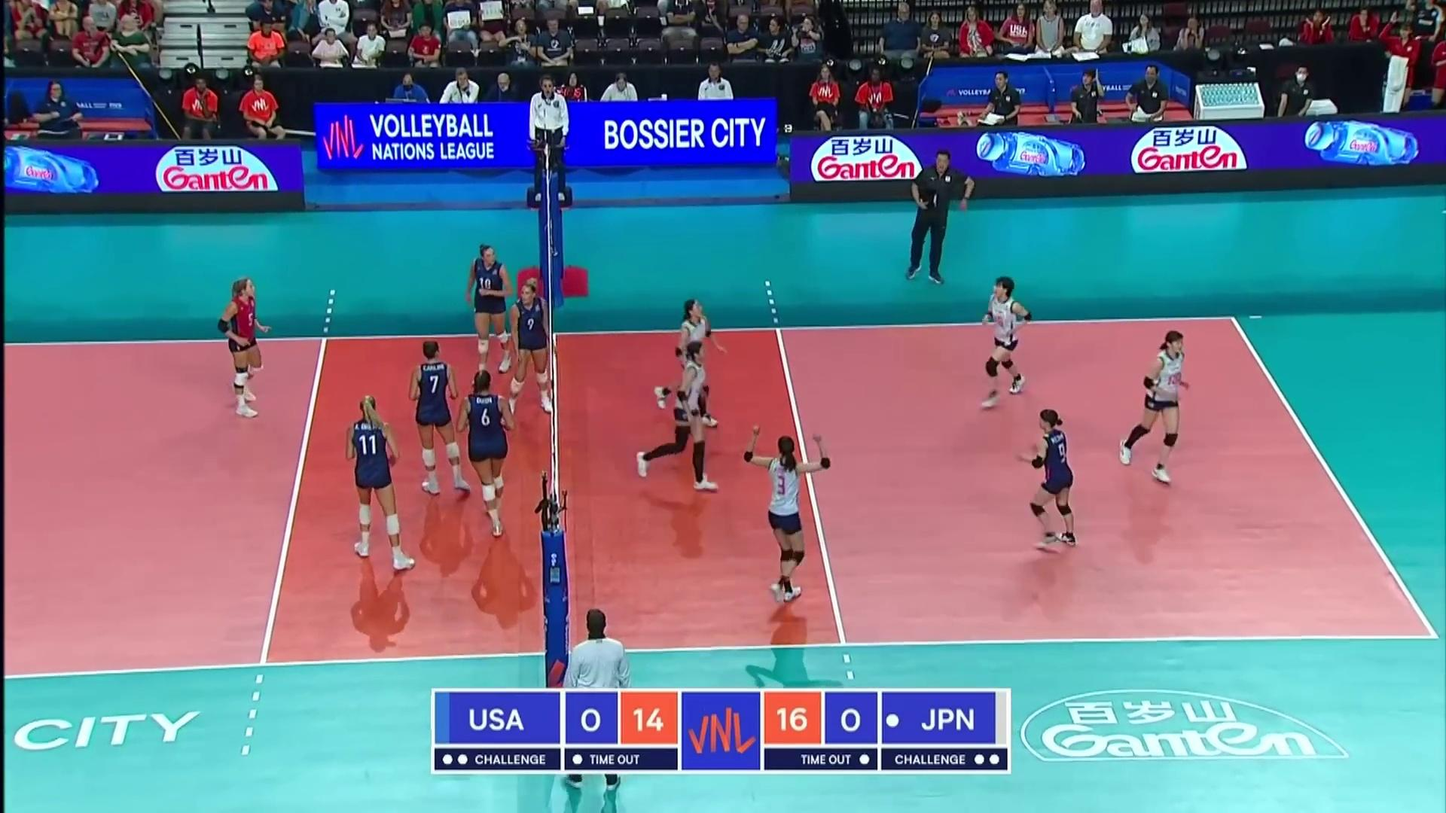player: (741, 434, 834, 603), (634, 340, 719, 491), (345, 395, 418, 568), (1117, 330, 1189, 481), (456, 371, 517, 537), (409, 339, 472, 495), (652, 301, 726, 426), (1015, 409, 1077, 549), (219, 278, 274, 416), (977, 278, 1034, 407), (504, 279, 555, 418), (465, 244, 513, 381)
refree: (565, 610, 630, 790), (529, 76, 572, 205)
